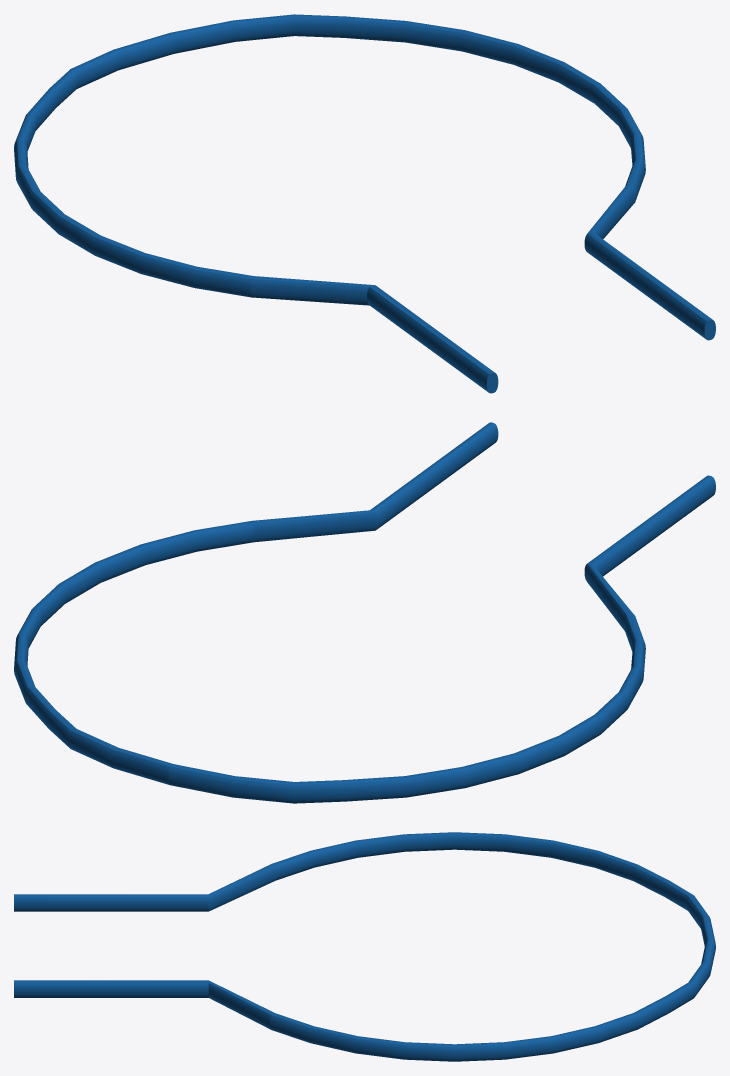
File: CircleBoru2.fbx
The picture shows the model from 3 angles, top to bottom: view 1: azimuth 30°, elevation 25°; view 2: azimuth 150°, elevation 25°; view 3: azimuth 270°, elevation 25°; orthographic projection. The views are drawn at different scales.
Parts seen in each view (by area): view 1: Cube.008; view 2: Cube.008; view 3: Cube.008.
Boxes of the visible parts, box(x1,y1,x2,y2) form: Cube.008: box(14, 14, 715, 393); Cube.008: box(14, 422, 715, 803); Cube.008: box(14, 832, 715, 1061).
Bounding box in the file's own units: 5230 × 194 × 7163.
